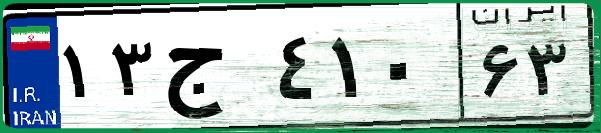0: (385, 28, 445, 110)
1: (330, 28, 385, 110), (57, 26, 110, 100)
3: (525, 38, 570, 115), (110, 28, 158, 98)
4: (270, 28, 330, 110)
6: (475, 38, 525, 113)
ج: (158, 20, 270, 120)
